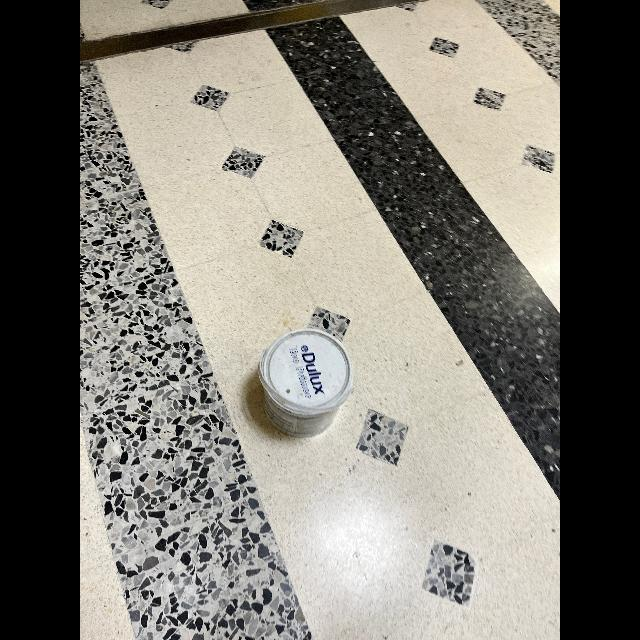paint_bucket: (248, 322, 349, 440)
